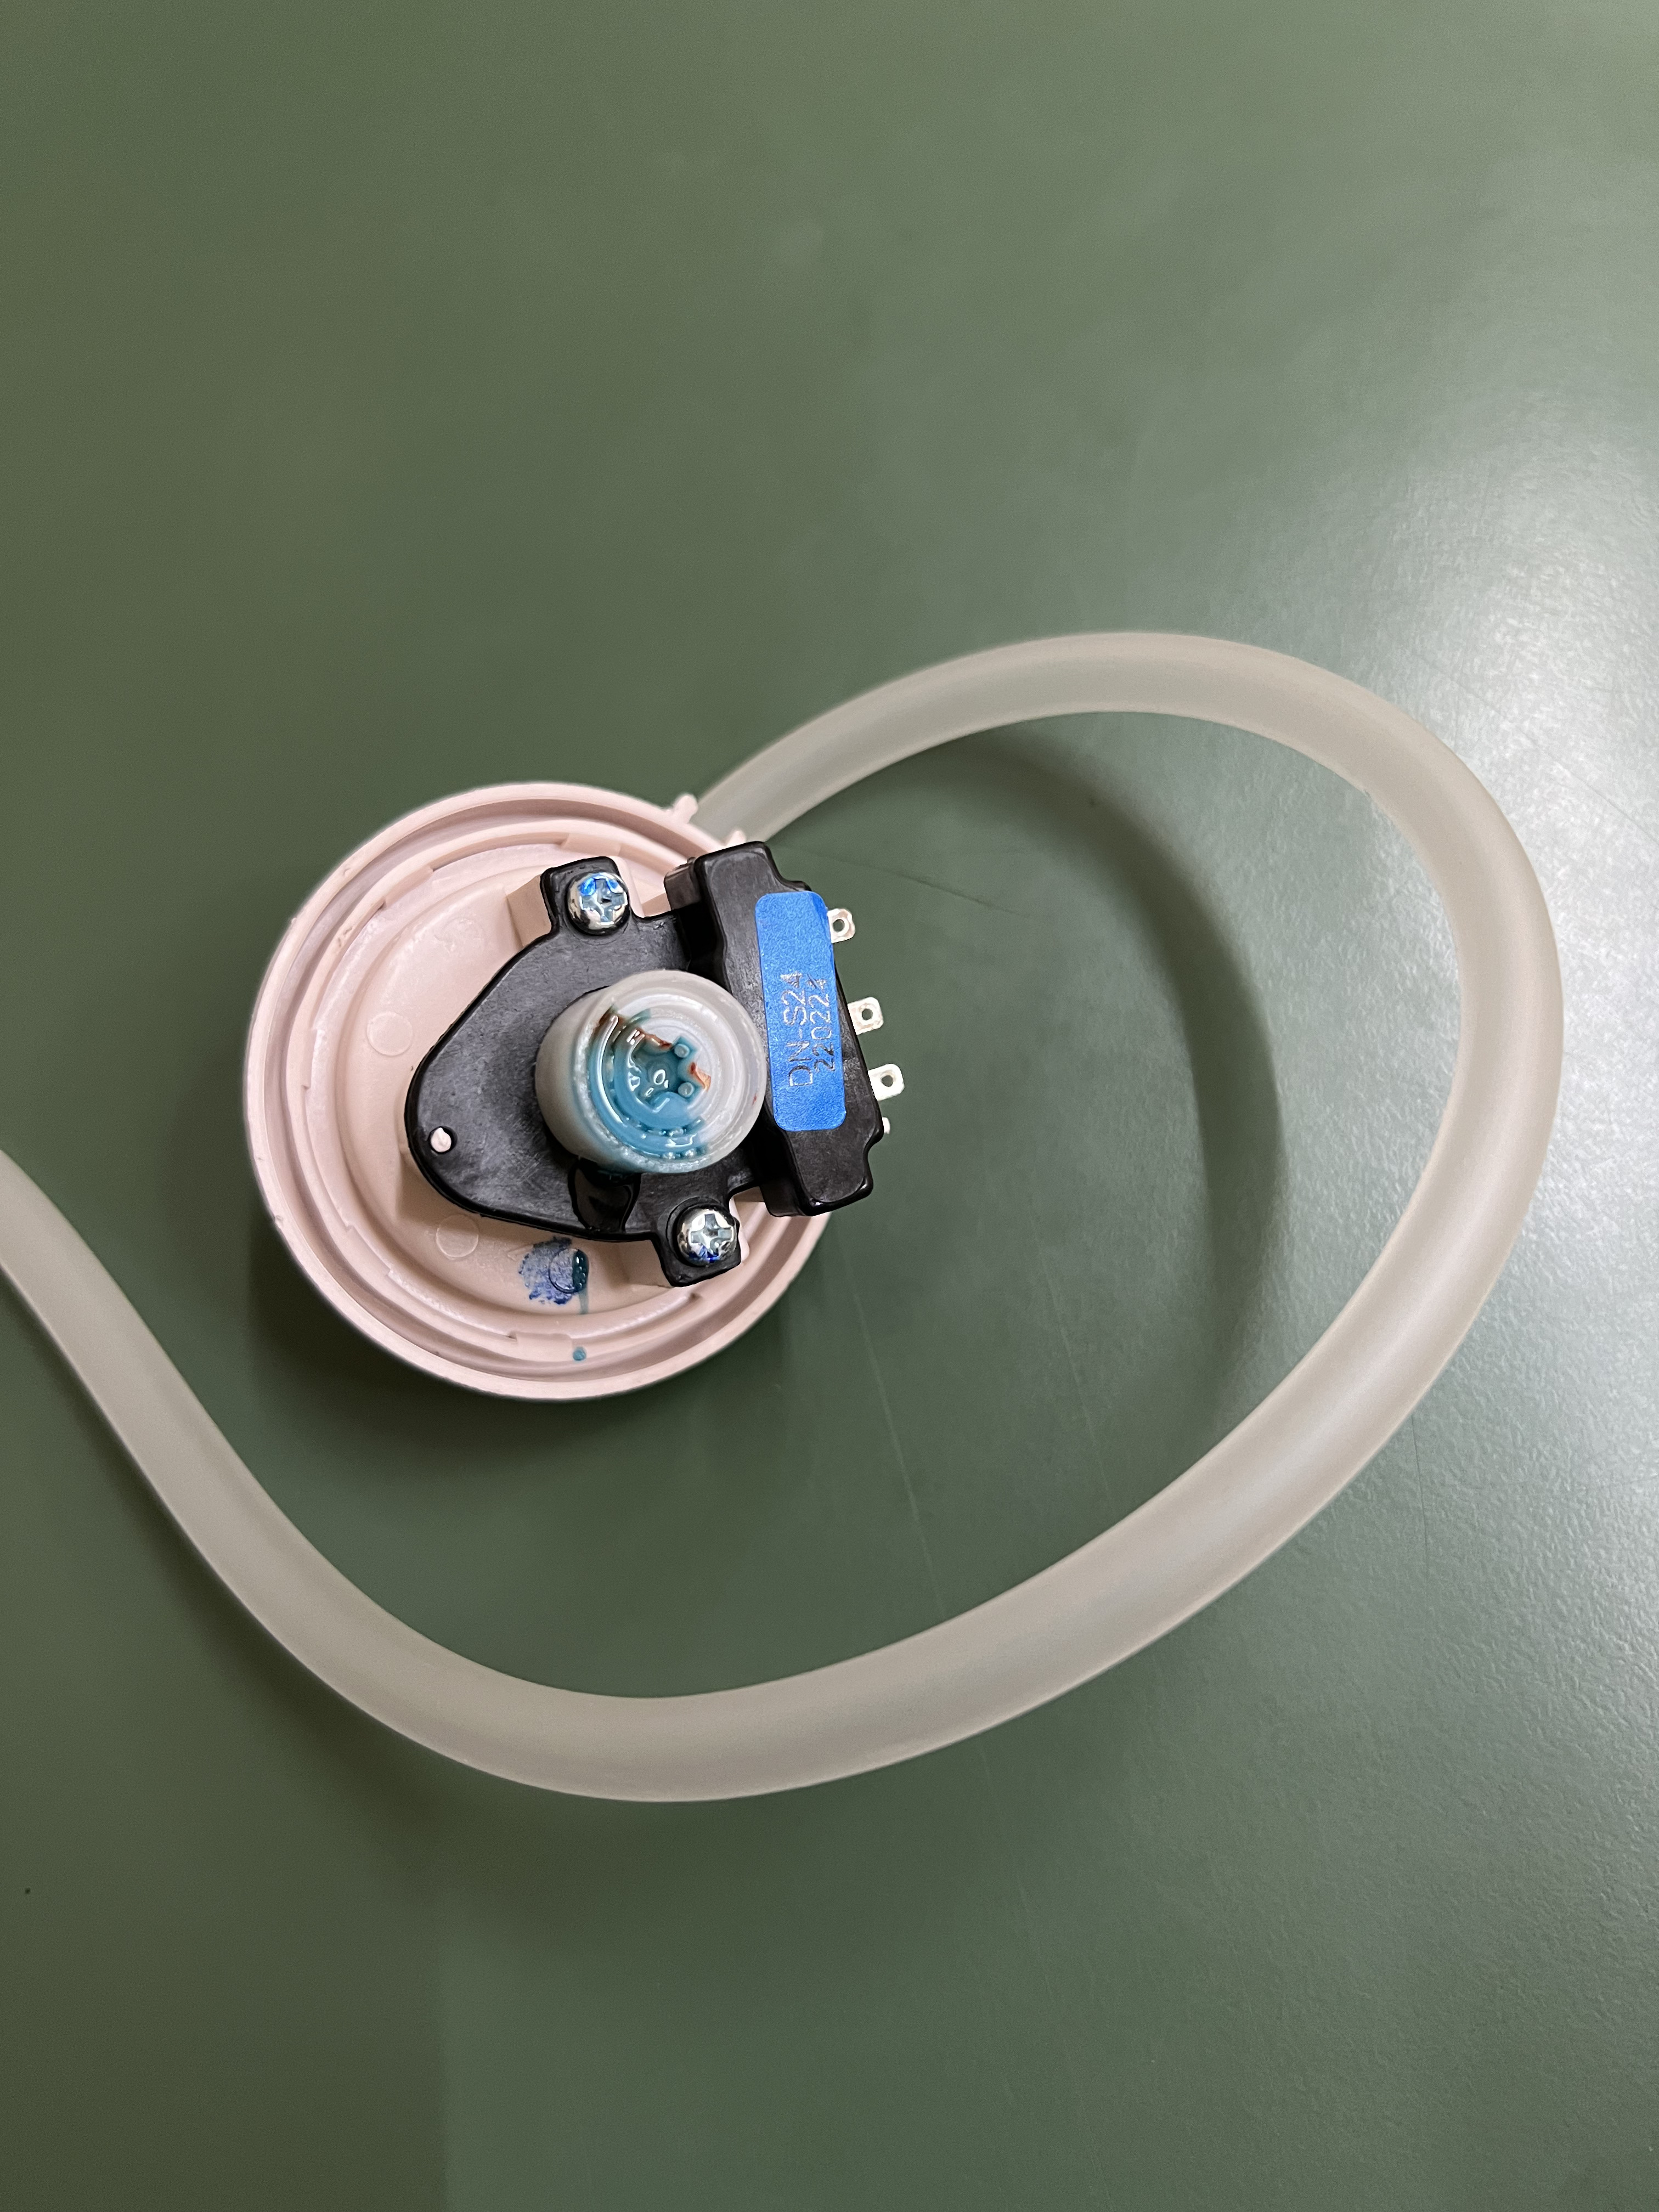pressure_sensor: (0, 634, 1615, 1784)
